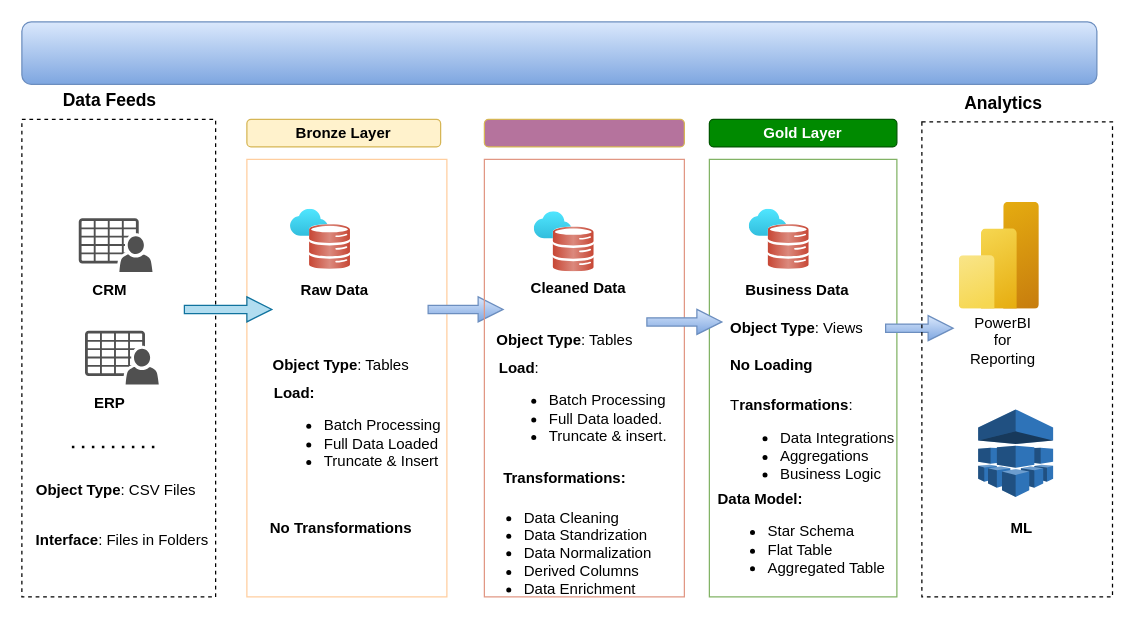
Image size: 1135x644. Some labels were removed from this diagram. The shapes that lost their labels are listed below. From the top down, each one's box as (x1, y1, x2, y2) in pixels, then its label:
(21, 21, 1097, 84): TECHNICAL ARCHITECTURE
(483, 118, 684, 147): Silver Layer
